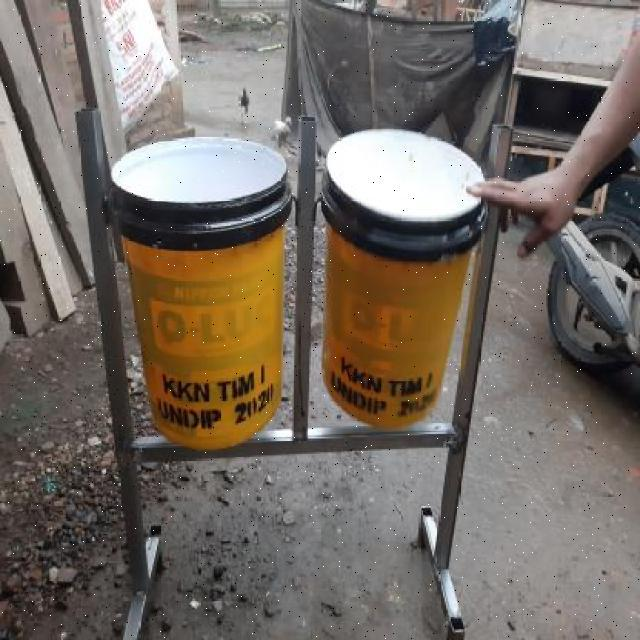garbage container: (107, 131, 293, 440), (323, 120, 499, 442)
